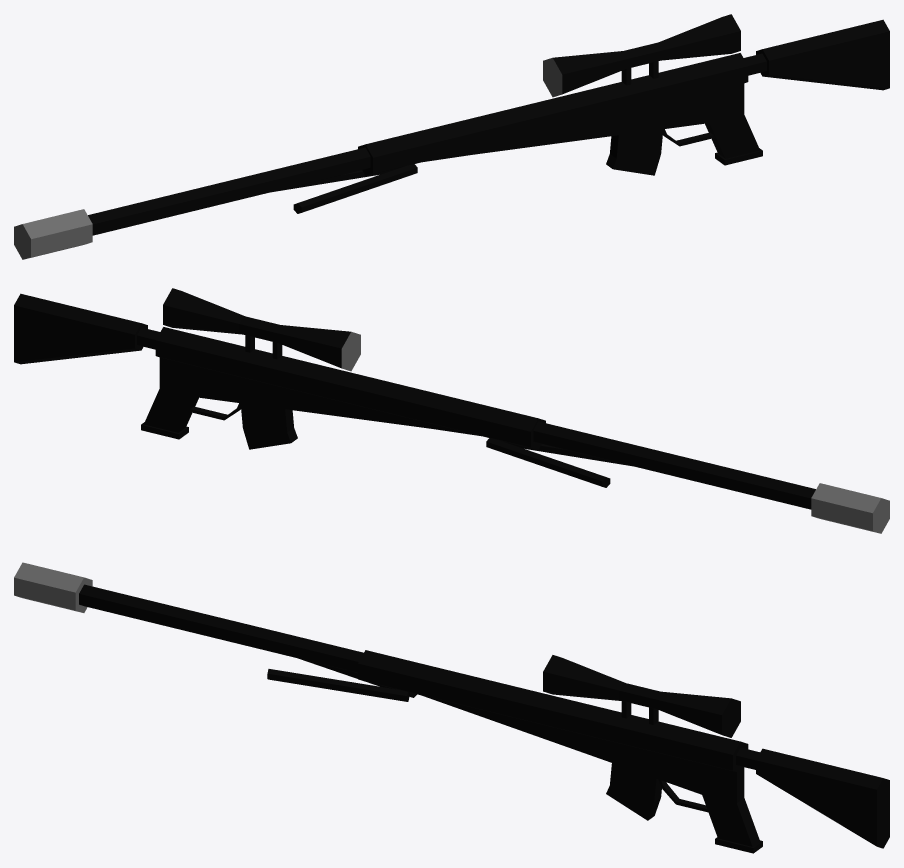
File: SniperRifle.fbx
The picture shows the model from 3 angles, top to bottom: view 1: azimuth 30°, elevation 25°; view 2: azimuth 150°, elevation 25°; view 3: azimuth 330°, elevation 25°; orthographic projection.
Visible parts, largest first — view 1: SniperRifle; view 2: SniperRifle; view 3: SniperRifle.
Part boxes in pixels (left/top/right/bottom): SniperRifle: left=14, top=14, right=889, bottom=259; SniperRifle: left=14, top=288, right=889, bottom=533; SniperRifle: left=14, top=562, right=889, bottom=853.
Bounding box in the file's own units: 166 × 26.7 × 11.41.
Materials: 1 (1 with a texture image).
